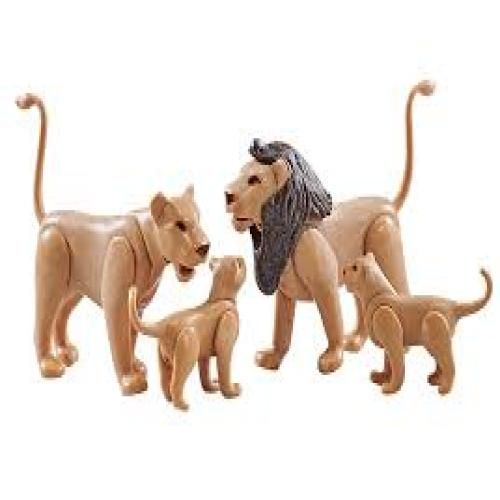lion-endangered: (220, 68, 440, 372), (12, 92, 213, 400), (339, 249, 494, 402), (126, 252, 246, 417)
